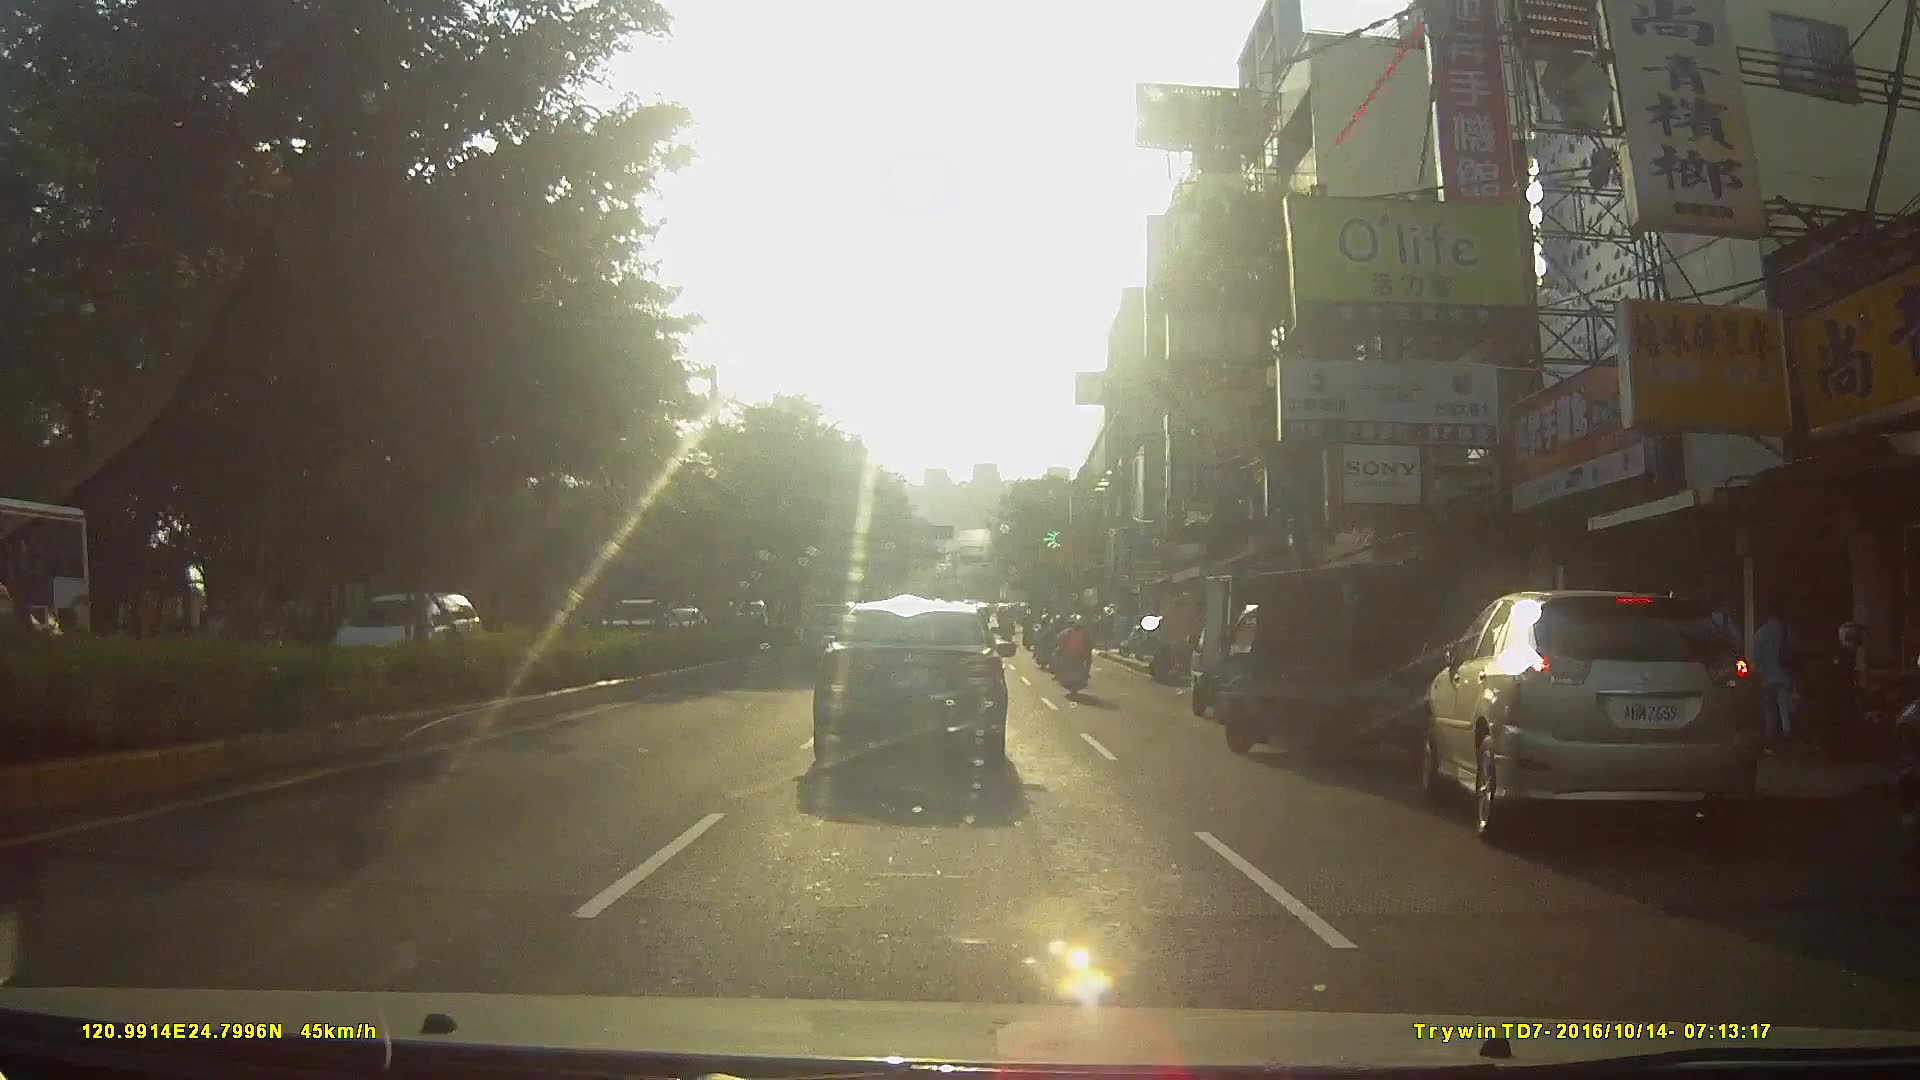pedestrian: (1740, 593, 1807, 748)
rider: (1050, 607, 1093, 698), (1032, 608, 1056, 664)
vehicle: (1415, 574, 1818, 865), (1206, 549, 1479, 776), (810, 590, 1029, 779), (1, 496, 114, 684), (324, 585, 487, 695)
